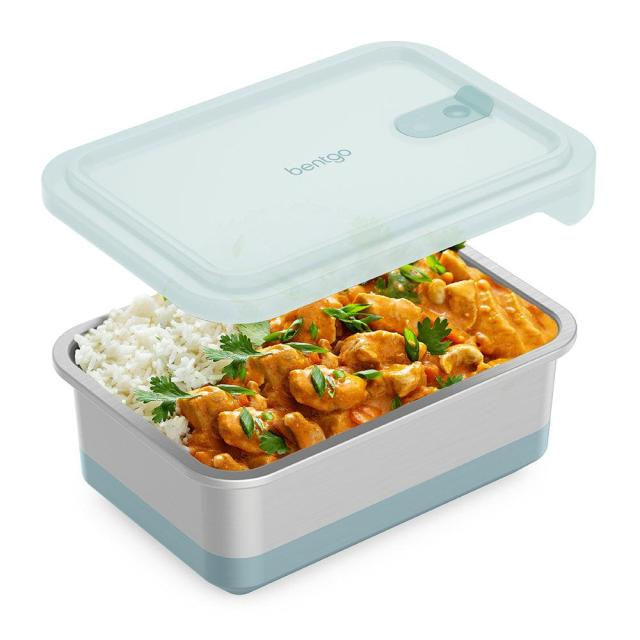styrofoam: (39, 38, 597, 594)
